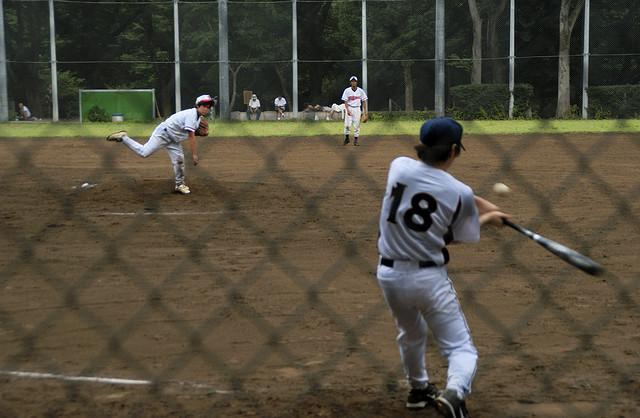bat: (495, 214, 607, 278)
